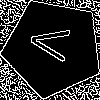V: (28, 23, 80, 65)
